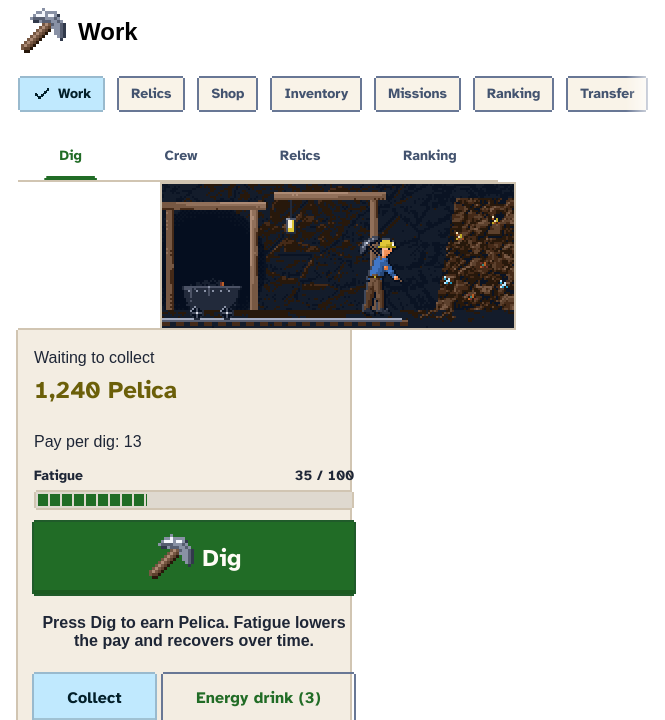
Scenario: labor › hires from the crew tab and fills the dorm
Step 1. Click the tab "Crew" → (181, 156), box [123,132,239,180]
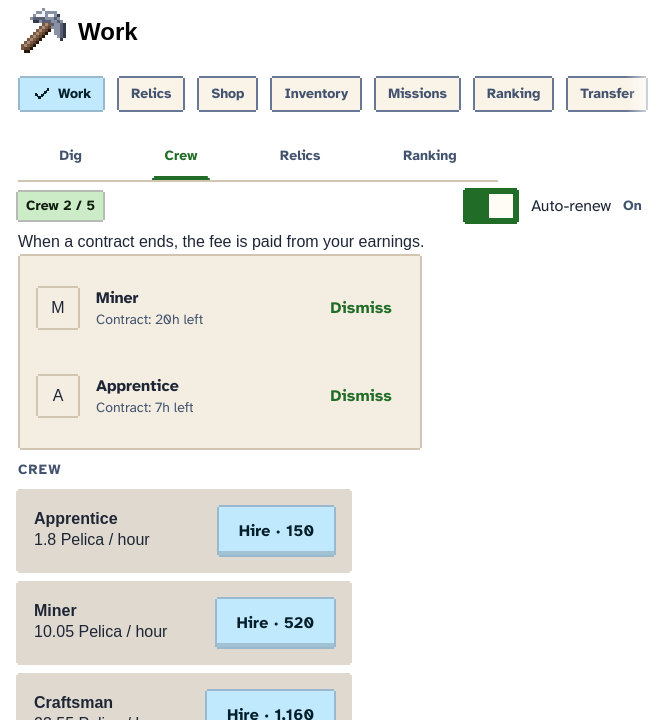
Expected: the text "Crew 2 / 5" is shown, [18,192,103,220]
Step 2. Click the button "Hire · 520" → (275, 623), box [217,599,334,647]
(page scrolled)
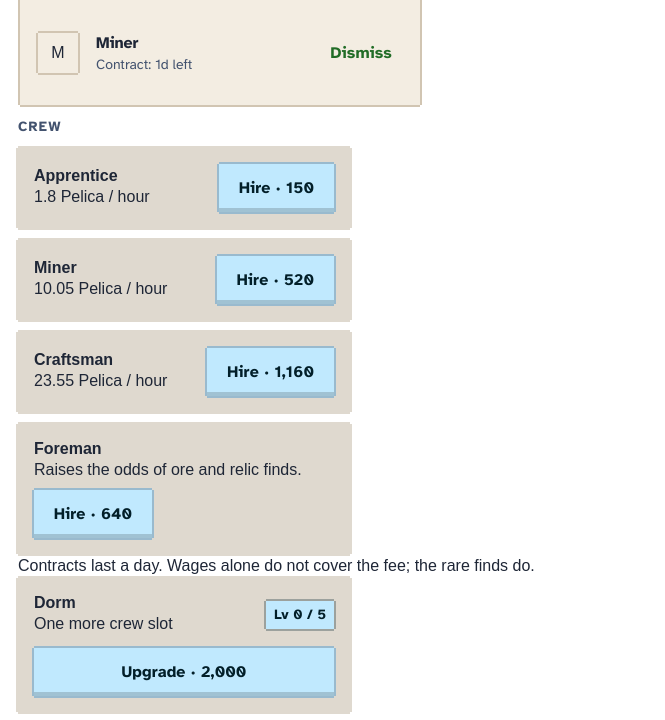
Step 3. Click the button "Hire · 1,160" → (271, 372), box [207,348,334,396]
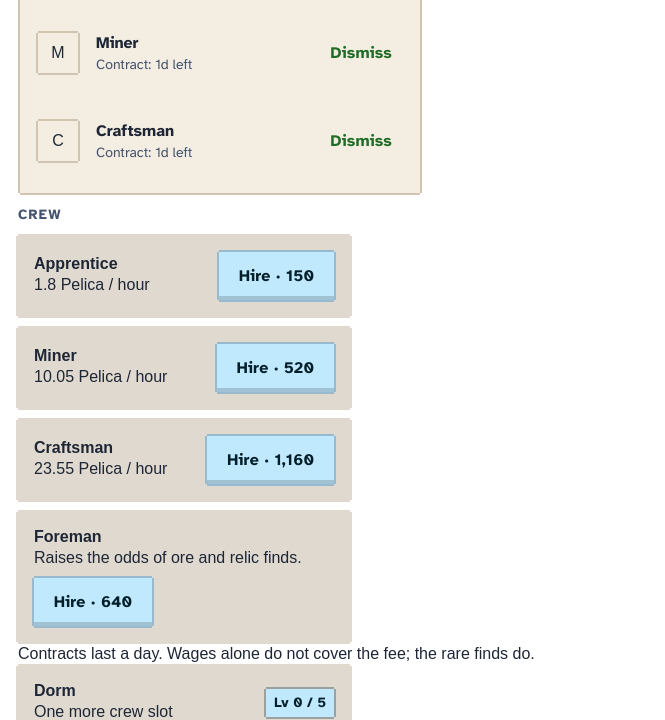
Step 4. Click the button "Hire · 150" → (276, 276), box [219,252,334,300]
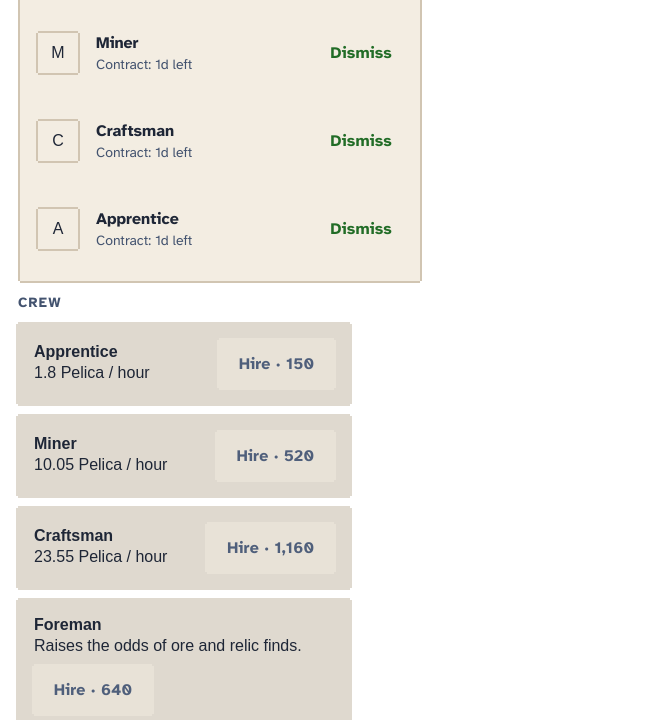
Expected: the button "Hire · 640" is disabled, [34,666,152,714]
